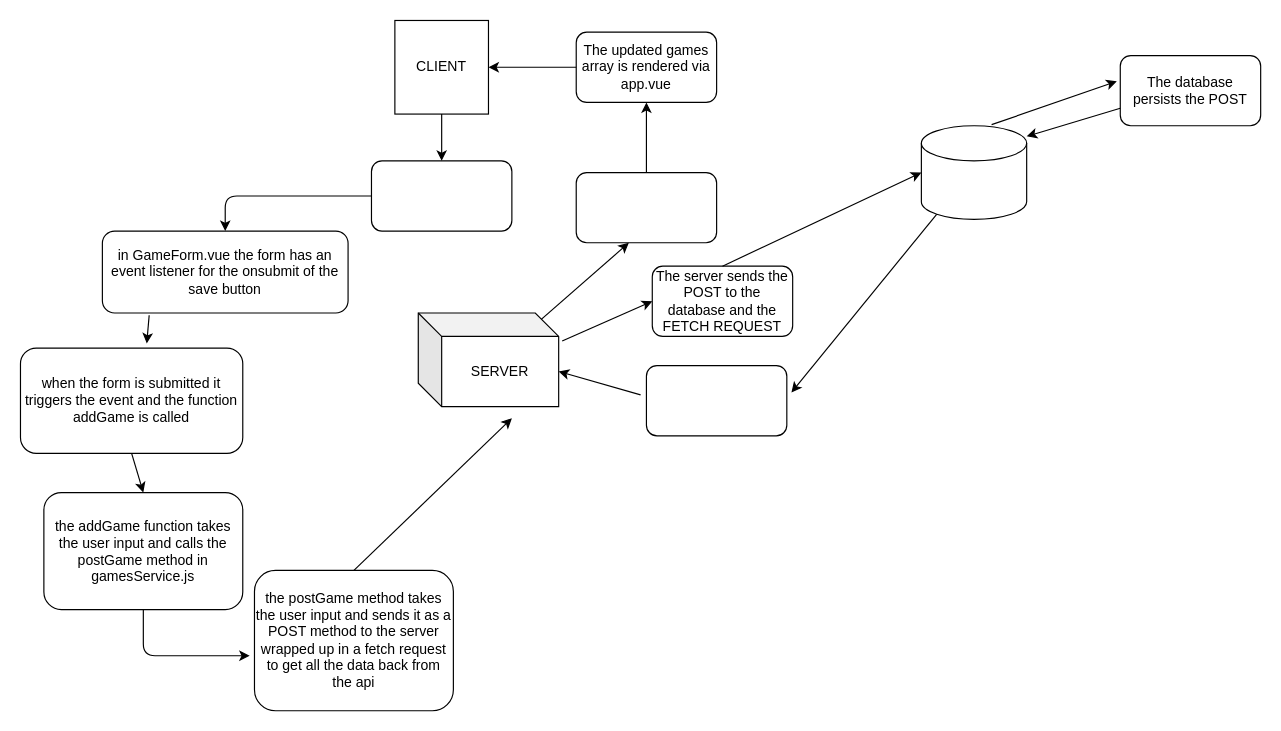
This 1281x731 diagram has some shape labels left out. The box of each missing label's shape, as (x1, y1, x2, y2) in pixels:
DATABASE: (920, 125, 1027, 219)
in GamesGrid.vue the new game is pushed to the games array: (575, 171, 717, 243)
The database sends back the updated data: (645, 364, 787, 436)
The user fills in form and presses save: (370, 160, 512, 231)
